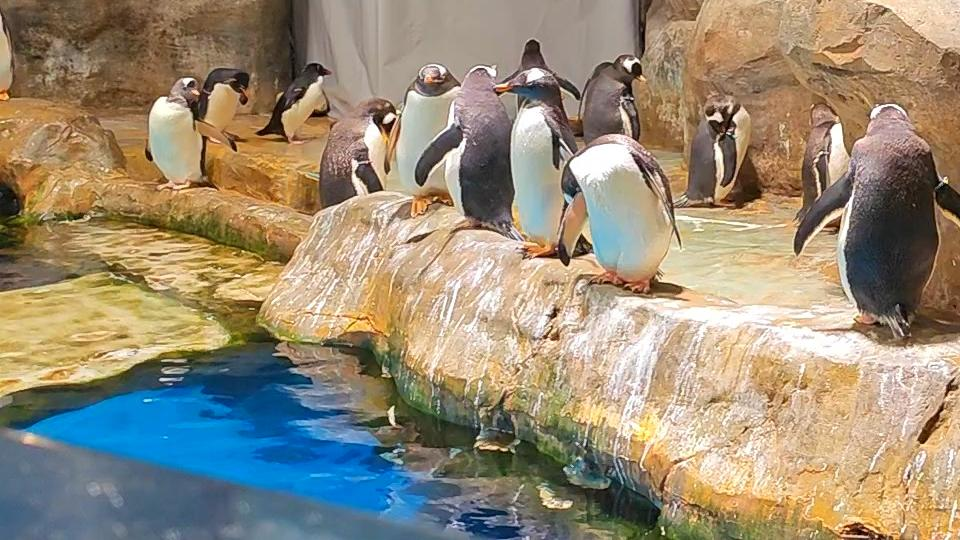Southern Rockhopper Penguin: (255, 54, 339, 149), (188, 63, 259, 135)
